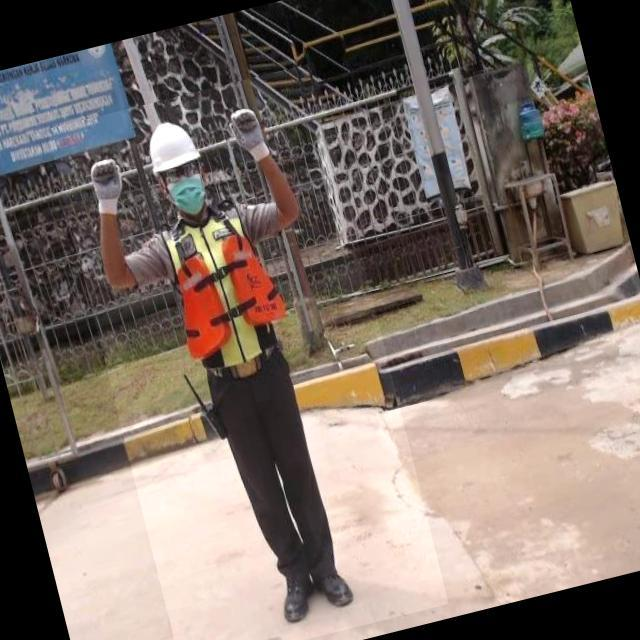Helmet: (139, 113, 207, 182)
Human: (47, 61, 450, 640)
Safety Boot: (277, 568, 324, 624), (315, 563, 361, 614)
Safety Vest: (159, 198, 298, 375)
